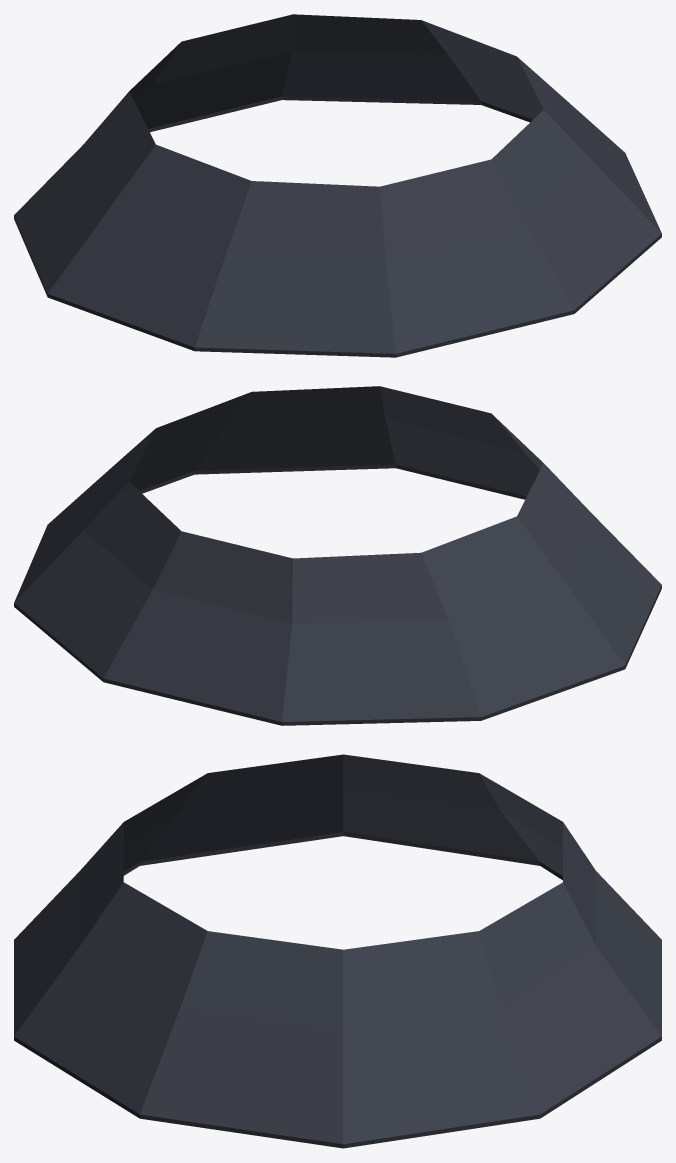
File: jupe.glb
3 views of the same model, one above another, from view 1: azimuth 30°, elevation 25°; view 2: azimuth 150°, elevation 25°; view 3: azimuth 270°, elevation 25° (orthographic). The views are drawn at different scales.
Visible parts, largest first — view 1: jupe; view 2: jupe; view 3: jupe.
Boxes of the visible parts, left/top/right/bottom form: jupe: left=14, top=14, right=661, bottom=357; jupe: left=14, top=386, right=661, bottom=725; jupe: left=14, top=754, right=661, bottom=1148.
Size of the model in its own units: 3.2 by 0.67 by 2.81.
Materials: 1 (1 with a texture image).
